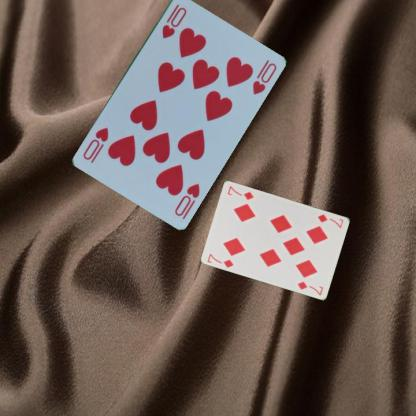10h: (159, 0, 188, 40), (172, 180, 201, 218)
7d: (315, 211, 345, 230), (205, 250, 235, 268)
